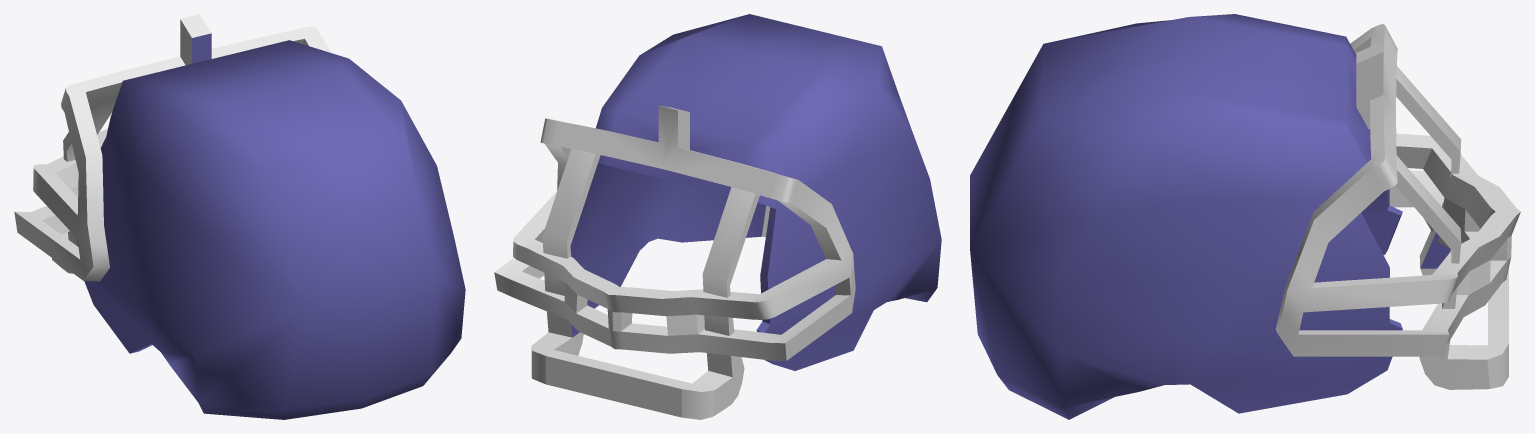
File: FootballHelmet.gltf
3 renders of one model, left to right at view 1: azimuth 30°, elevation 25°; view 2: azimuth 150°, elevation 25°; view 3: azimuth 270°, elevation 25°, orthographic. The views are drawn at different scales.
Visible parts, largest first — view 1: AMERICAN FOOTBALL HELMET; view 2: AMERICAN FOOTBALL HELMET; view 3: AMERICAN FOOTBALL HELMET.
Boxes of the visible parts, left/top/right/bottom form: AMERICAN FOOTBALL HELMET: left=14, top=14, right=465, bottom=419; AMERICAN FOOTBALL HELMET: left=494, top=14, right=941, bottom=419; AMERICAN FOOTBALL HELMET: left=970, top=14, right=1520, bottom=419.
Bounding box in the file's own units: 0.3179 × 0.2744 × 0.4492.
Materials: 1 (1 with a texture image).
